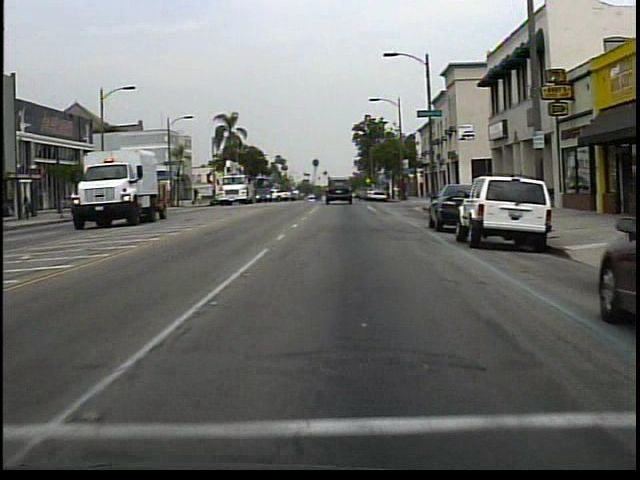person: (26, 193, 36, 221)
